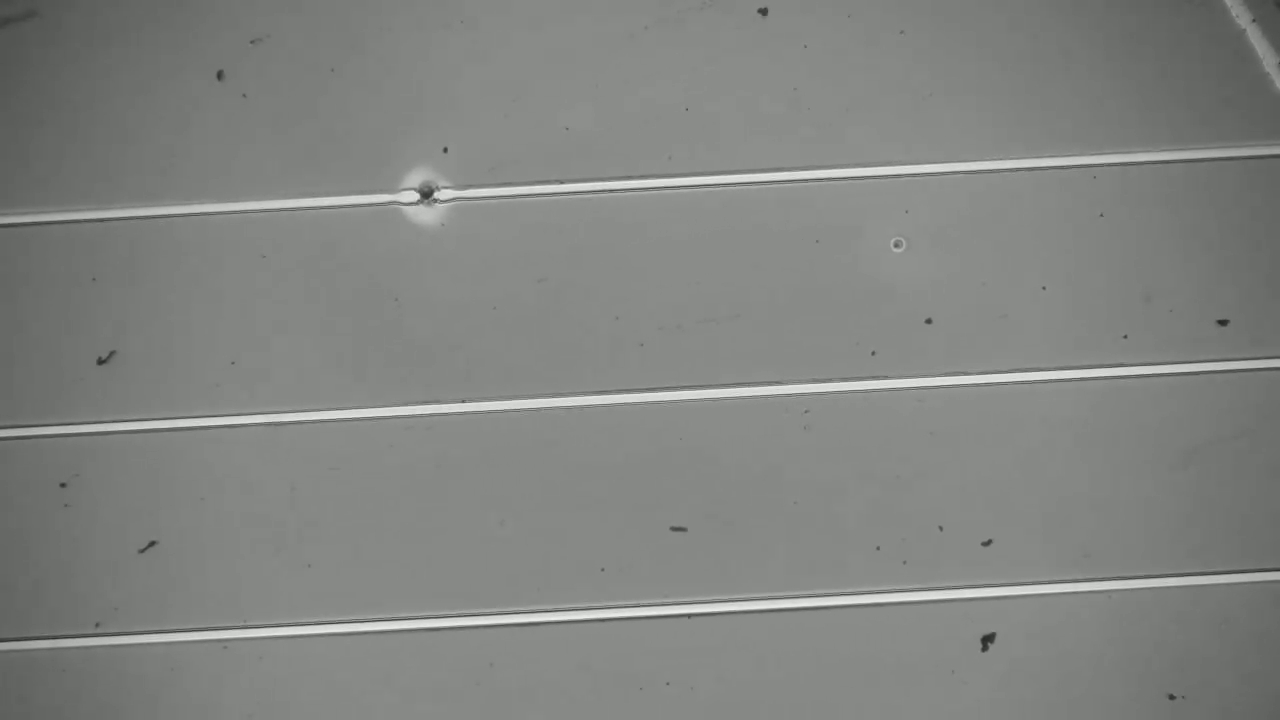stains_enbedded: (406, 172, 453, 219)
